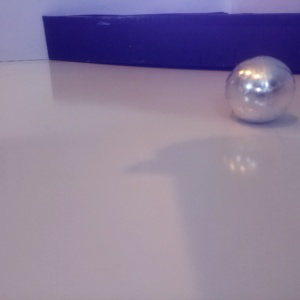zone: (41, 11, 300, 72)
